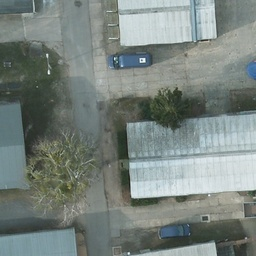car: (157, 223, 188, 239)
van: (108, 53, 153, 68)
